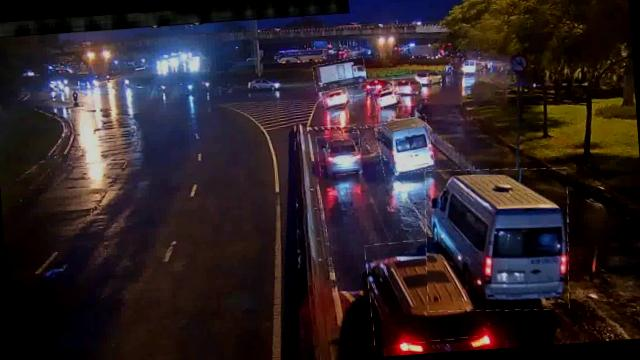Bus: (419, 162, 574, 316), (376, 116, 434, 176)
Car: (365, 235, 477, 345), (316, 132, 362, 175), (372, 84, 401, 109), (322, 88, 349, 110), (392, 77, 419, 96)
Truck: (313, 57, 367, 92)
